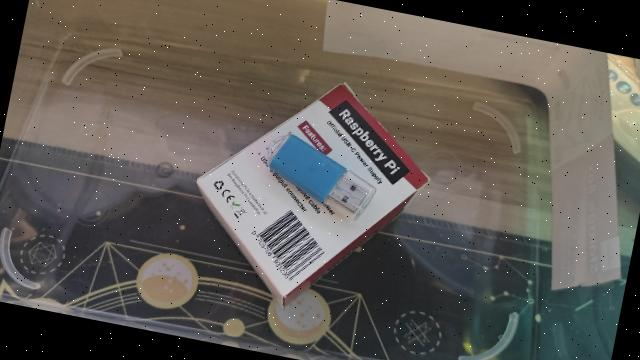charger_box: (174, 56, 446, 331)
sdcard_reader: (254, 125, 386, 226)
